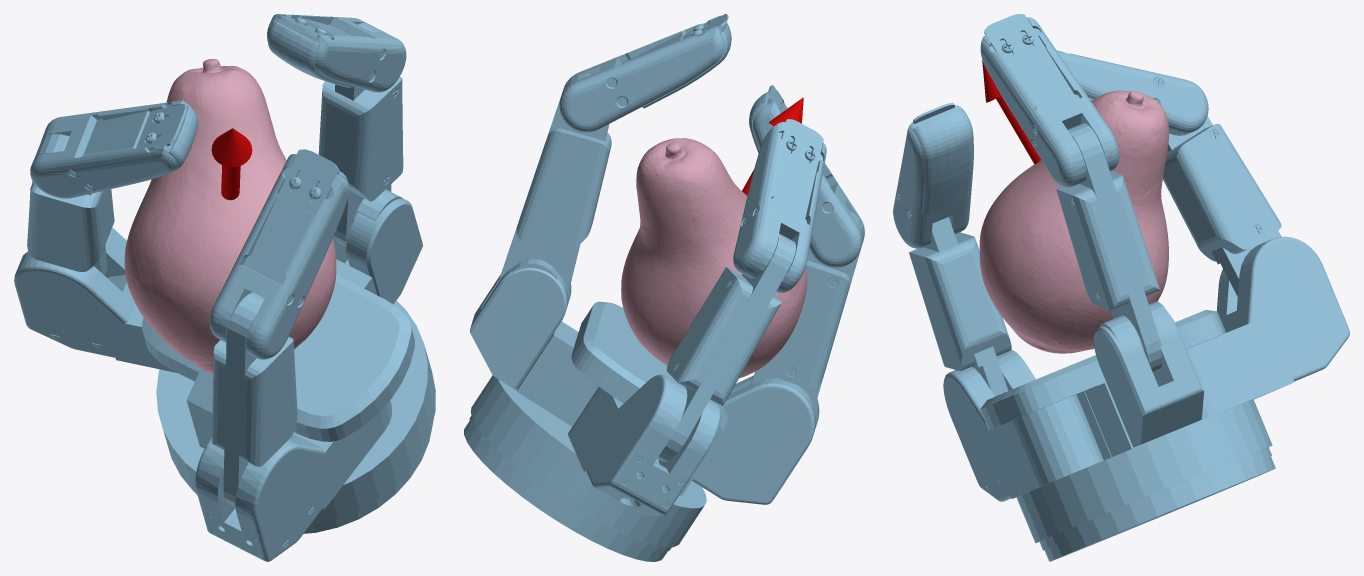
3 renders of one model, left to right at view 1: azimuth 30°, elevation 25°; view 2: azimuth 150°, elevation 25°; view 3: azimuth 270°, elevation 25°, orthographic. The views are drawn at different scales.
Parts seen in each view (by area): view 1: world, pear.stl; view 2: world, pear.stl; view 3: world, pear.stl.
Boxes of the visible parts, x1,y1,x2,y2 form: world: (14, 14, 435, 561); pear.stl: (124, 59, 336, 373); world: (464, 14, 864, 561); pear.stl: (621, 138, 807, 378); world: (893, 14, 1349, 561); pear.stl: (979, 90, 1168, 353).
Size of the model in its own units: 0.1407 by 0.1976 by 0.1583.
